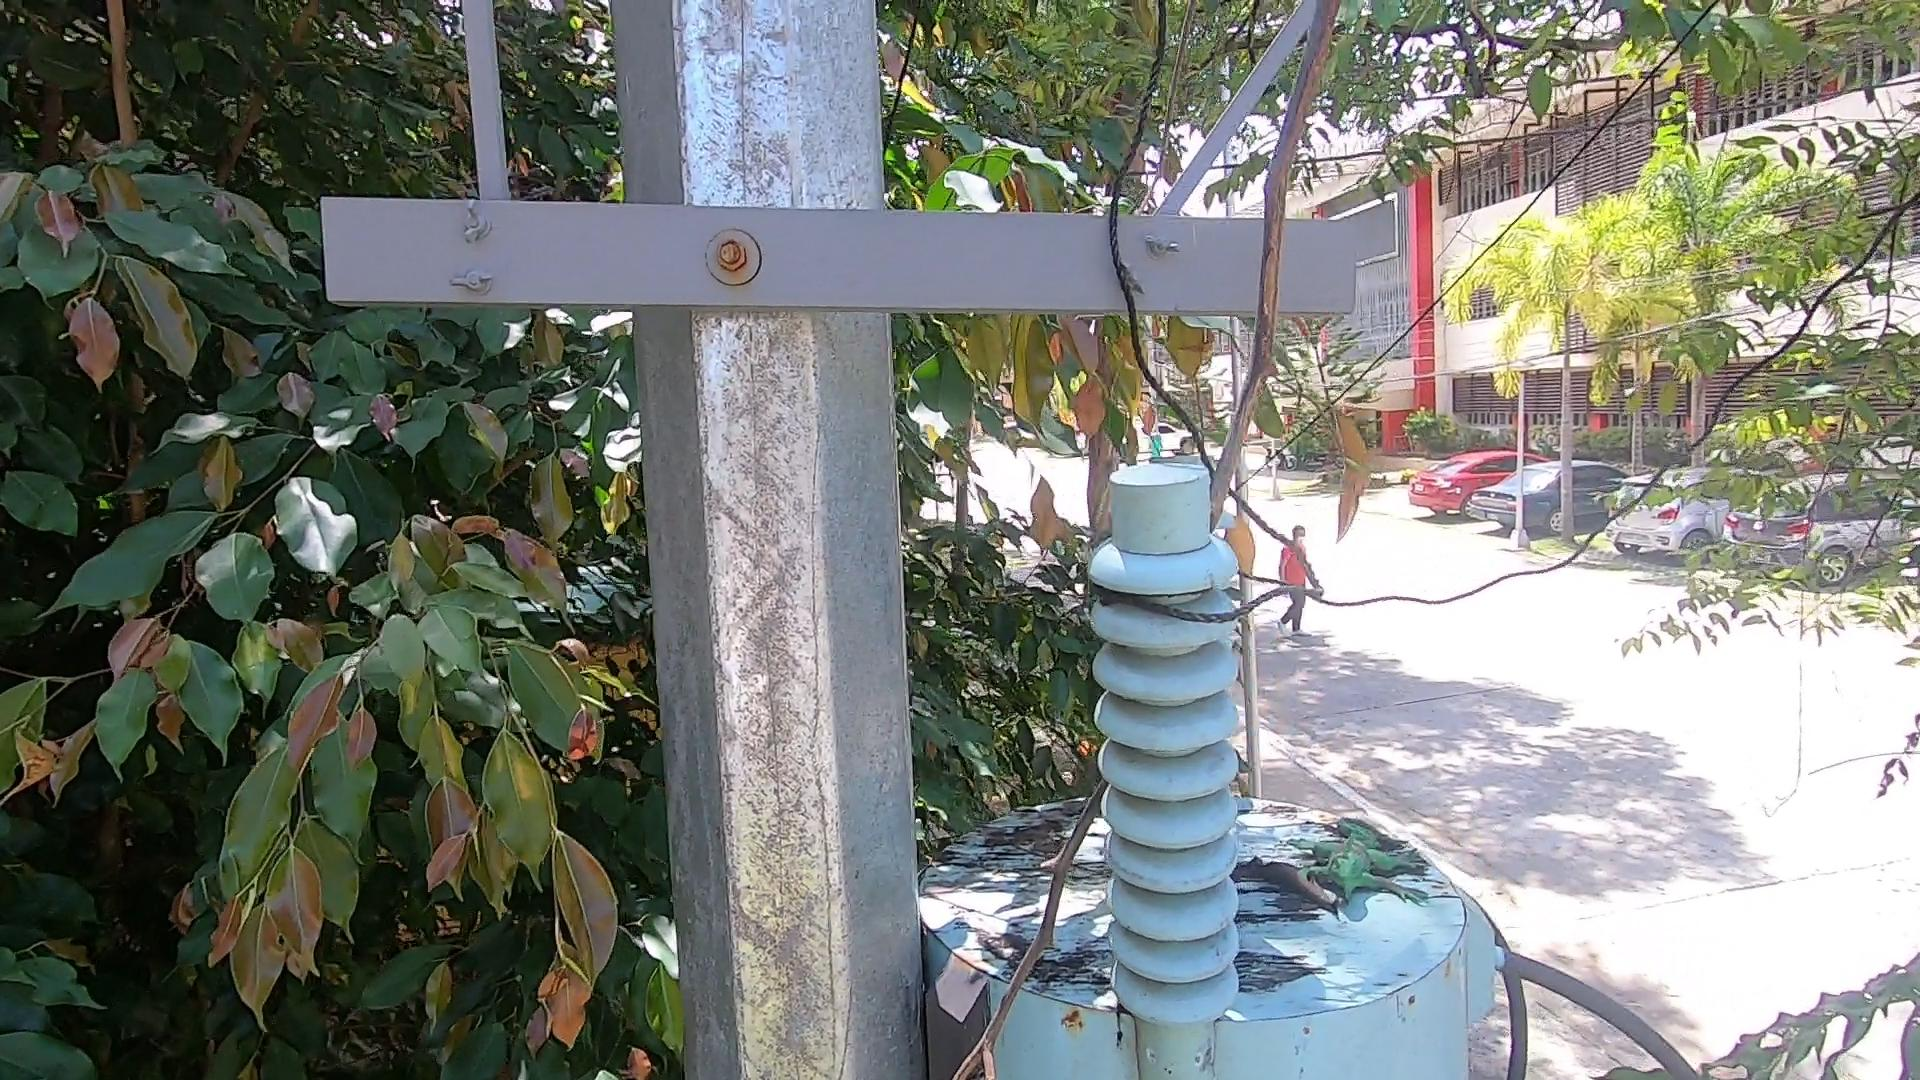branch with leaves: (978, 343, 1254, 483)
leaf: (1236, 858, 1335, 932), (981, 818, 1077, 862), (990, 928, 1056, 986)
tree branch: (881, 3, 1404, 1080)
